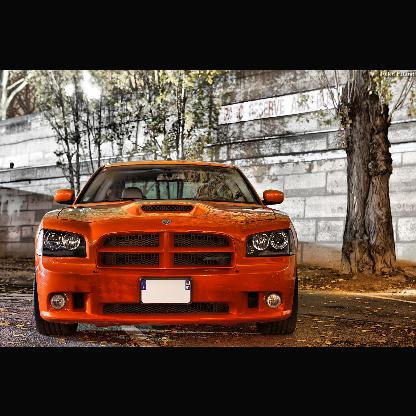Dodge Charger SRT-8 2009: (32, 160, 301, 339)
